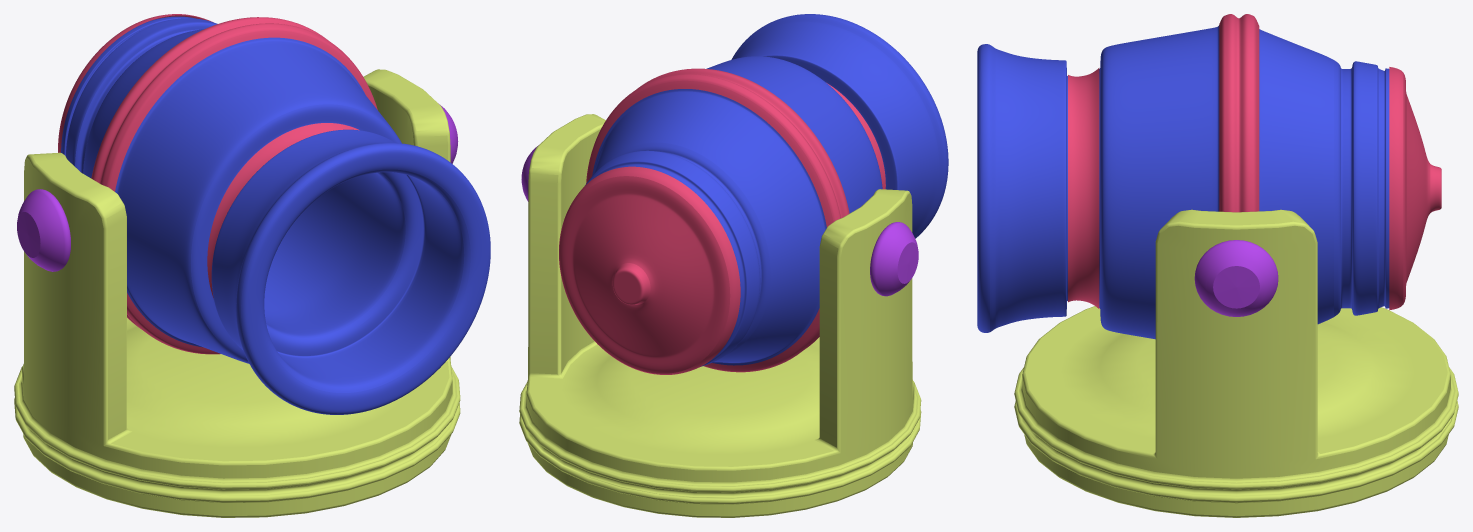
File: cannon.fbx
The picture shows the model from 3 angles, left to right: view 1: azimuth 30°, elevation 25°; view 2: azimuth 150°, elevation 25°; view 3: azimuth 270°, elevation 25°; orthographic projection. The views are drawn at different scales.
Visible parts, largest first — view 1: body, stand, body .003, Bolt; view 2: stand, body, body .003, Bolt; view 3: stand, body, body .003, Bolt.
Boxes of the visible parts, x1,y1,x2,y2 form: body: (61,16,490,414); stand: (14,69,460,517); body .003: (58,14,377,354); Bolt: (17,103,458,271); stand: (519,114,921,517); body: (585,14,948,366); body .003: (559,68,885,374); Bolt: (521,145,918,296); stand: (1014,209,1458,517); body: (977,25,1389,339); body .003: (1068,14,1441,310); Bolt: (1194,240,1278,316).
Bounding box in the file's own units: 5364 × 4934 × 5380.
